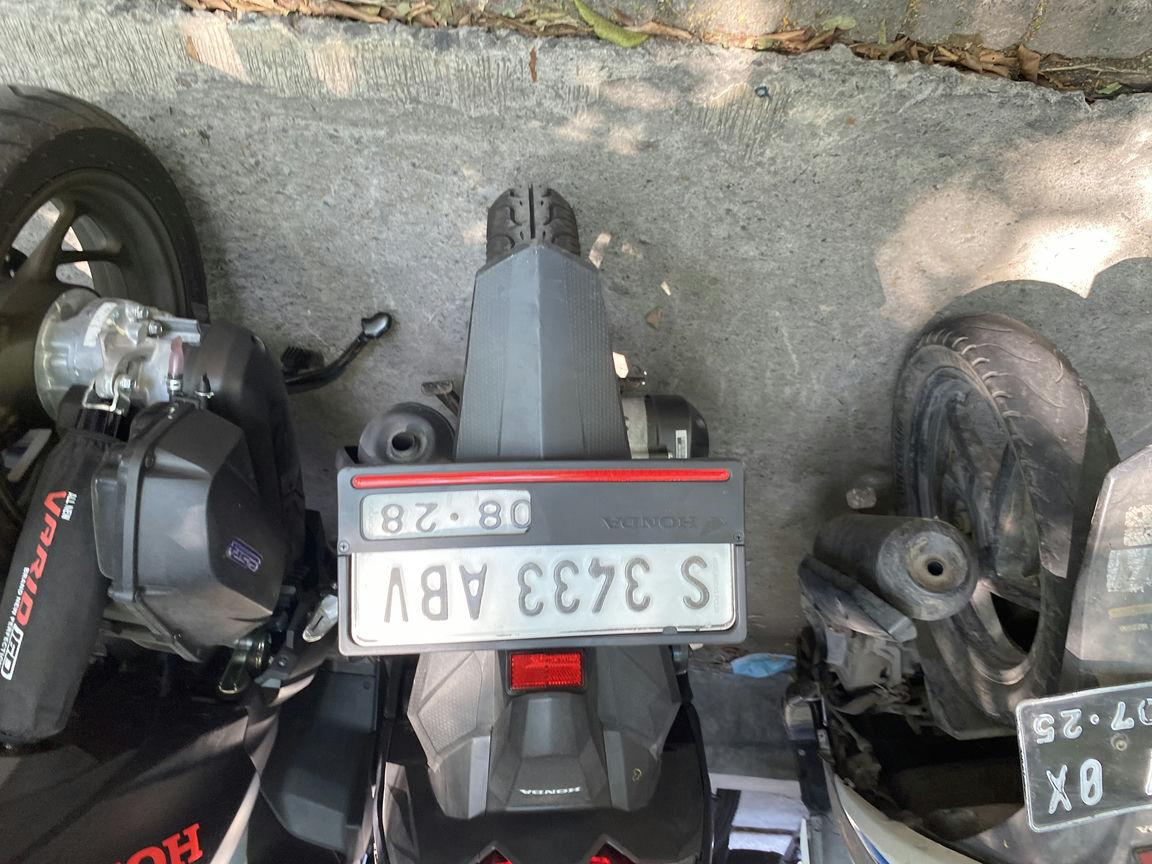plat: (407, 209, 814, 407)
